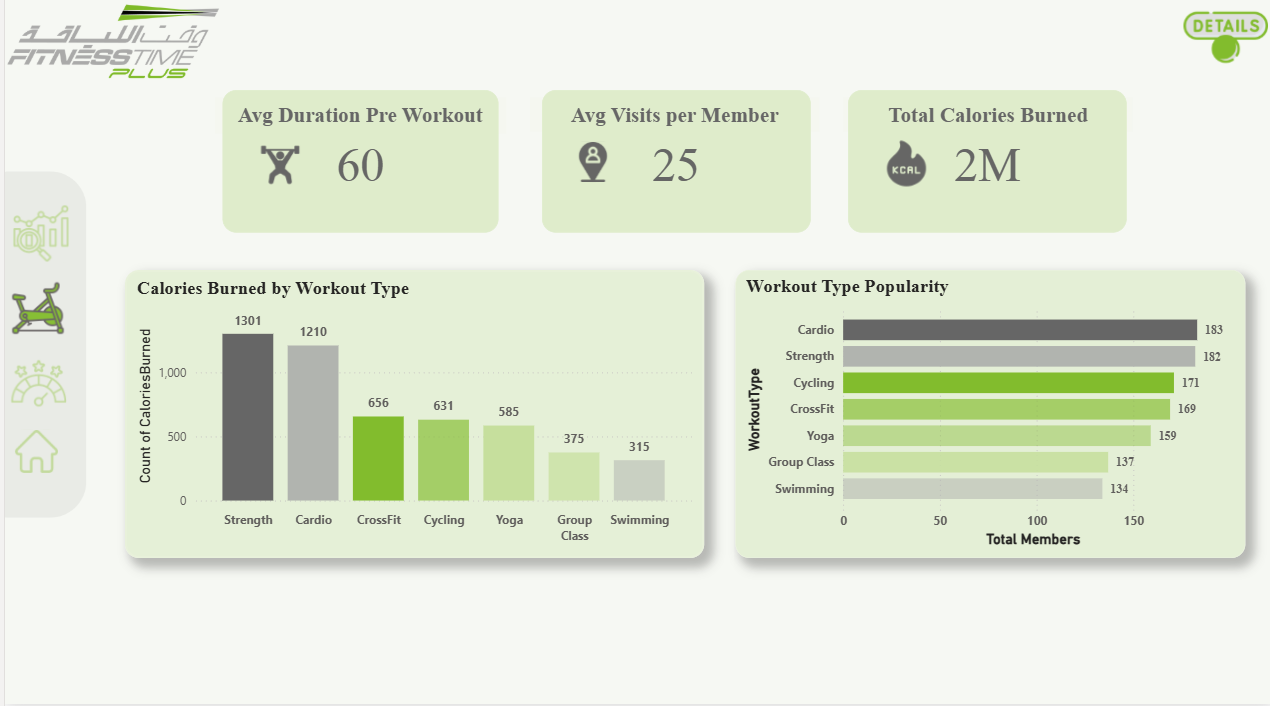

The page's visual inventory and layout, read from the dashboard file:
{"tool":"powerbi","page":{"name":"Activites","canvas":[1280,720],"ordinal":2},"visuals":[{"type":"actionButton","box":[1.5,282.1,63.6,77.2],"z":0},{"type":"actionButton","box":[1.5,363.9,90.9,65.1],"z":1000},{"type":"actionButton","box":[6.1,439.1,63.6,51.5],"z":2000},{"type":"actionButton","box":[3,207.4,66.6,74.2],"z":3000},{"type":"card","fields":{"Values":["Avg(Visits.DurationMinutes)"]},"box":[219.1,99.9,278.6,143.8],"z":4000},{"type":"textbox","box":[212,107.5,293.8,36.3],"z":5000},{"type":"actionButton","box":[249.4,146.9,56,57.5],"z":6000},{"type":"card","fields":{"Values":["Avg(Members.TotalVisits)"]},"box":[541.6,99.9,271,143.8],"z":7000},{"type":"textbox","box":[530,107.5,292.2,34.8],"z":8000},{"type":"actionButton","box":[568.9,148.4,50,48.5],"z":9000},{"type":"card","fields":{"Values":["Sum(Visits.CaloriesBurned)"]},"box":[850.5,99.9,281.6,143.8],"z":10000},{"type":"textbox","box":[846.4,107.5,292.2,34.8],"z":11000},{"type":"actionButton","box":[879.3,143.8,68.1,60.6],"z":12000},{"type":"barChart","title":" Workout Type Popularity","fields":{"Category":["Visits.WorkoutType"],"Y":["Count(Visits.MemberID)"]},"box":[737.4,281.6,514.8,290.7],"z":14000},{"type":"clusteredColumnChart","title":"Calories Burned by Workout Type","fields":{"Category":["Visits.WorkoutType"],"Y":["CountNonNull(Visits.CaloriesBurned)"]},"box":[121.1,281.6,584.5,290.7],"z":15000},{"type":"actionButton","box":[1184.9,0,95.1,93.4],"z":16000}]}

Visuals, with their boxes in screenshot pixels (x1, y1, x2, y2), scaled from the page's 1280x720 canvas onto the 1270x706 screenshot:
actionButton: <bbox>1, 277, 65, 352</bbox>
actionButton: <bbox>1, 357, 92, 421</bbox>
actionButton: <bbox>6, 431, 69, 481</bbox>
actionButton: <bbox>3, 203, 69, 276</bbox>
card - Avg(Visits.DurationMinutes): <bbox>217, 98, 494, 239</bbox>
textbox: <bbox>210, 105, 502, 141</bbox>
actionButton: <bbox>247, 144, 303, 200</bbox>
card - Avg(Members.TotalVisits): <bbox>537, 98, 806, 239</bbox>
textbox: <bbox>526, 105, 816, 140</bbox>
actionButton: <bbox>564, 146, 614, 193</bbox>
card - Sum(Visits.CaloriesBurned): <bbox>844, 98, 1123, 239</bbox>
textbox: <bbox>840, 105, 1130, 140</bbox>
actionButton: <bbox>872, 141, 940, 200</bbox>
" Workout Type Popularity" barChart: <bbox>732, 276, 1242, 561</bbox>
"Calories Burned by Workout Type" clusteredColumnChart: <bbox>120, 276, 700, 561</bbox>
actionButton: <bbox>1176, 0, 1269, 92</bbox>
